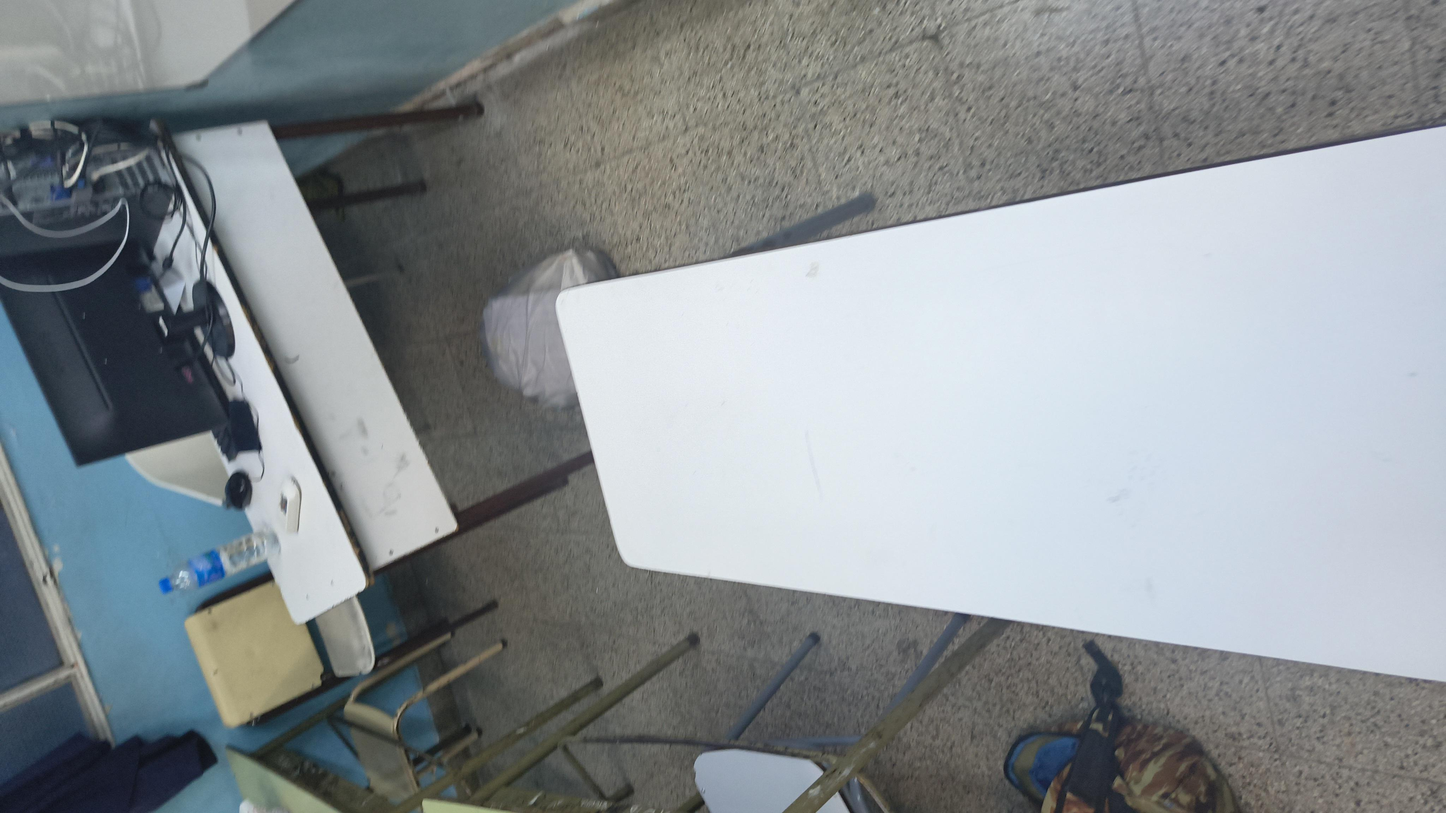Garbage: (634, 250, 1073, 359)
